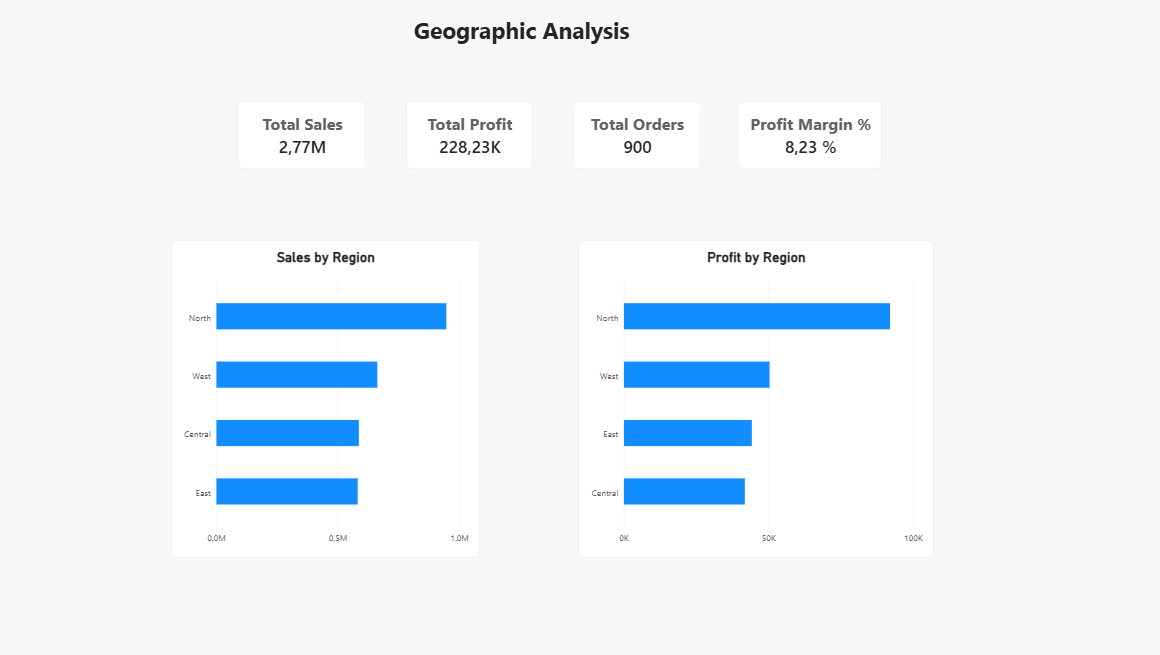

The dashboard page shown, as its layout file describes it:
{"tool":"powerbi","page":{"name":"Geographic Analysis","canvas":[1920,1080],"ordinal":3},"visuals":[{"type":"cardVisual","fields":{"Data":["FactSales.Total Sales"]},"box":[399.3,166.7,209.9,111.1],"z":0},{"type":"textbox","box":[675.1,24.7,380.8,55.6],"z":1000},{"type":"cardVisual","fields":{"Data":["FactSales.Total Profit"]},"box":[675.1,166.7,209.9,111.1],"z":2000},{"type":"cardVisual","fields":{"Data":["FactSales.Total Orders"]},"box":[950.9,166.7,209.9,111.1],"z":3000},{"type":"cardVisual","fields":{"Data":["FactSales.Profit Margin %"]},"box":[1222.6,166.7,236.7,111.1],"z":4000},{"type":"clusteredBarChart","title":"Sales by Region","fields":{"Category":["FactSales.Region"],"Y":["FactSales.Total Sales"]},"box":[288.2,395.2,508.4,522.8],"z":5000},{"type":"clusteredBarChart","title":"Profit by Region","fields":{"Category":["FactSales.Region"],"Y":["FactSales.Total Profit"]},"box":[959.2,395.2,584.6,522.8],"z":6000}]}

Visuals, with their boxes in screenshot pixels (x1, y1, x2, y2), scaled from the page's 1920x1080 canvas onto the 1160x655 screenshot:
cardVisual - FactSales.Total Sales: 241,101,368,168
textbox: 408,15,638,49
cardVisual - FactSales.Total Profit: 408,101,535,168
cardVisual - FactSales.Total Orders: 575,101,701,168
cardVisual - FactSales.Profit Margin %: 739,101,882,168
"Sales by Region" clusteredBarChart: 174,240,481,557
"Profit by Region" clusteredBarChart: 580,240,933,557
